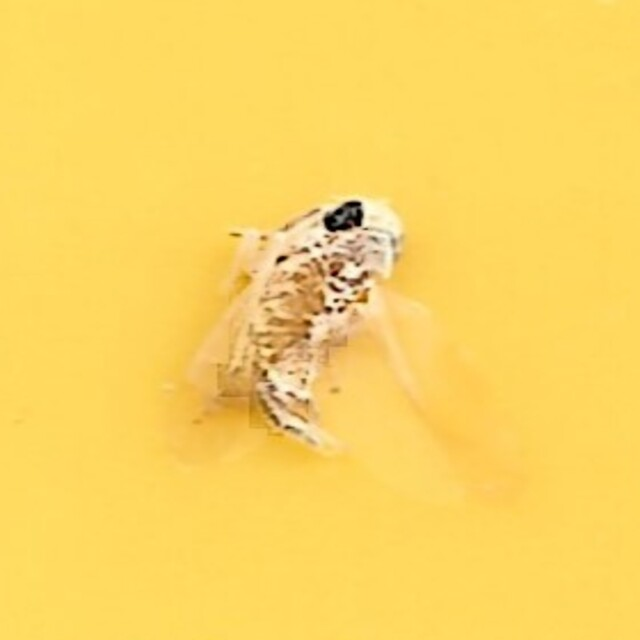Hemiptera: (229, 186, 411, 454)
